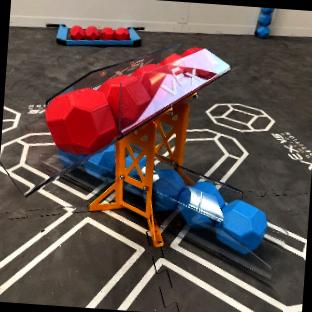Parking-R: (48, 24, 143, 45)
V5_BLUE: (215, 199, 266, 248), (178, 180, 224, 224), (152, 168, 184, 210)
V5_RED: (45, 82, 118, 152), (98, 66, 156, 132), (69, 25, 84, 39)
